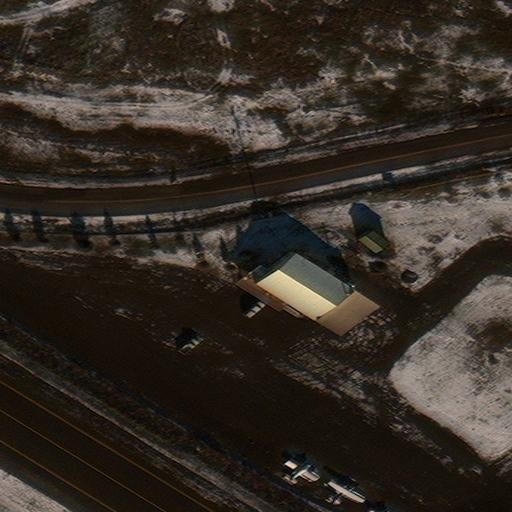Small Civil Transport: (330, 479, 365, 503), (288, 459, 320, 482)
